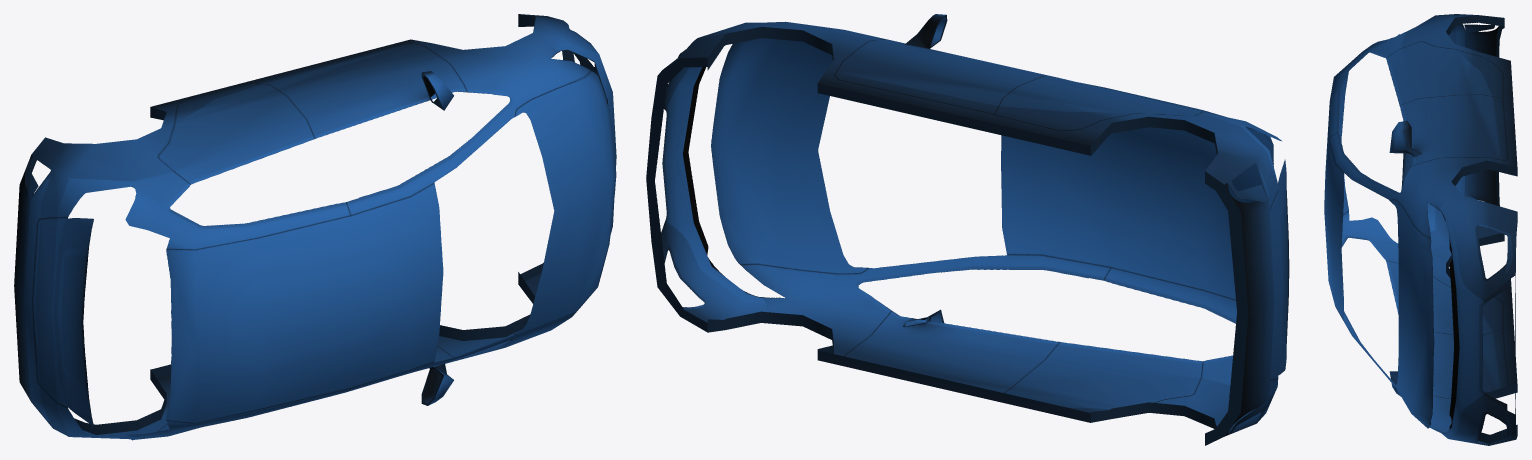
File: body.obj
3 renders of one model, left to right at view 1: azimuth 30°, elevation 25°; view 2: azimuth 150°, elevation 25°; view 3: azimuth 270°, elevation 25°, orthographic. The views are drawn at different scales.
Visible parts, largest first — view 1: body; view 2: body; view 3: body.
Part boxes in pixels (x1=…): body: x1=14, y1=14, x2=616, y2=440; body: x1=646, y1=14, x2=1289, y2=445; body: x1=1324, y1=14, x2=1517, y2=445.
Size of the model in its own units: 4 by 2.14 by 1.37.
Materials: 1 (1 with a texture image).
